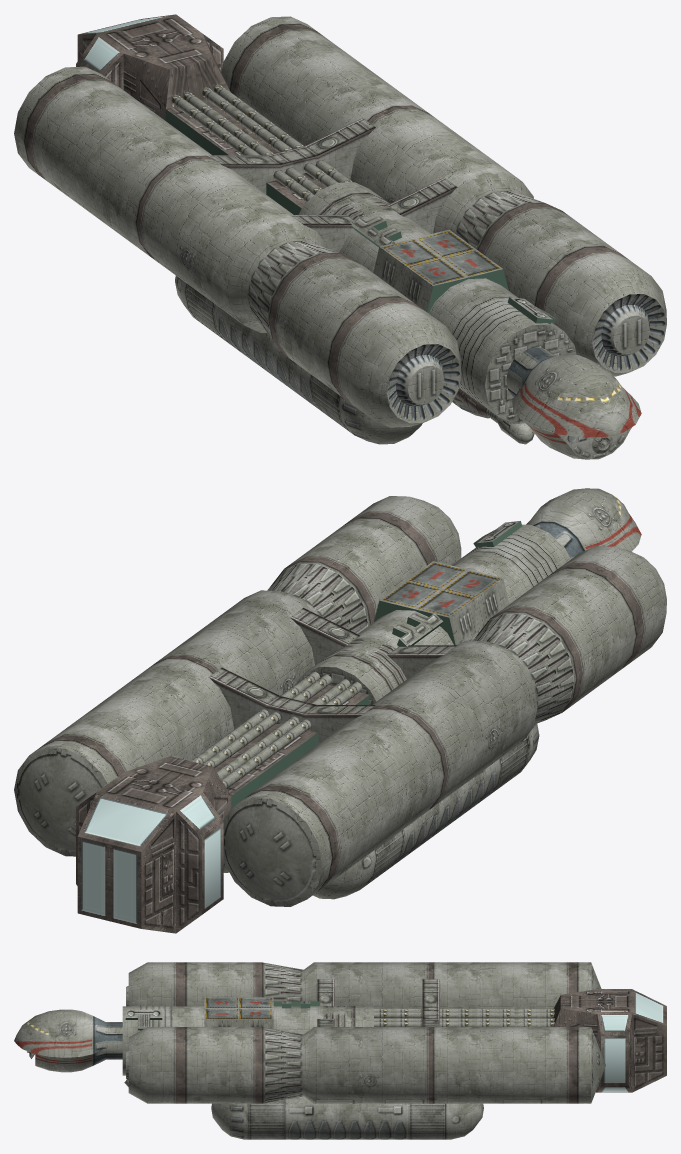
Rendered from Tube Ship.fbx.
3 renders of one model, top to bottom at view 1: azimuth 30°, elevation 25°; view 2: azimuth 150°, elevation 25°; view 3: azimuth 270°, elevation 25°, orthographic. The views are drawn at different scales.
Parts seen in each view (by area): view 1: coltube1co_1_1; view 2: coltube1co_1_1; view 3: coltube1co_1_1.
Boxes of the visible parts, x1,y1,x2,y2 form: coltube1co_1_1: (14, 14, 666, 459); coltube1co_1_1: (14, 488, 666, 933); coltube1co_1_1: (14, 962, 666, 1139).
Bounding box in the file's own units: 132 × 376 × 77.
Materials: 2 (1 with a texture image).
